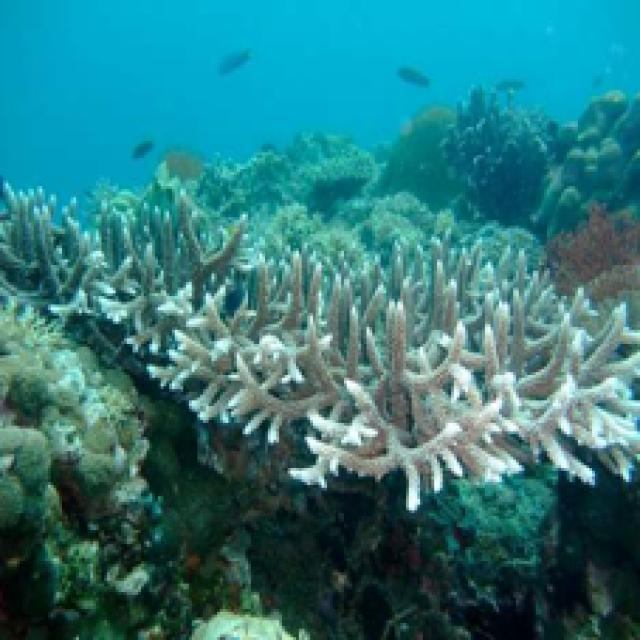Bleached: (136, 255, 517, 489), (297, 260, 638, 477), (1, 179, 243, 303)
